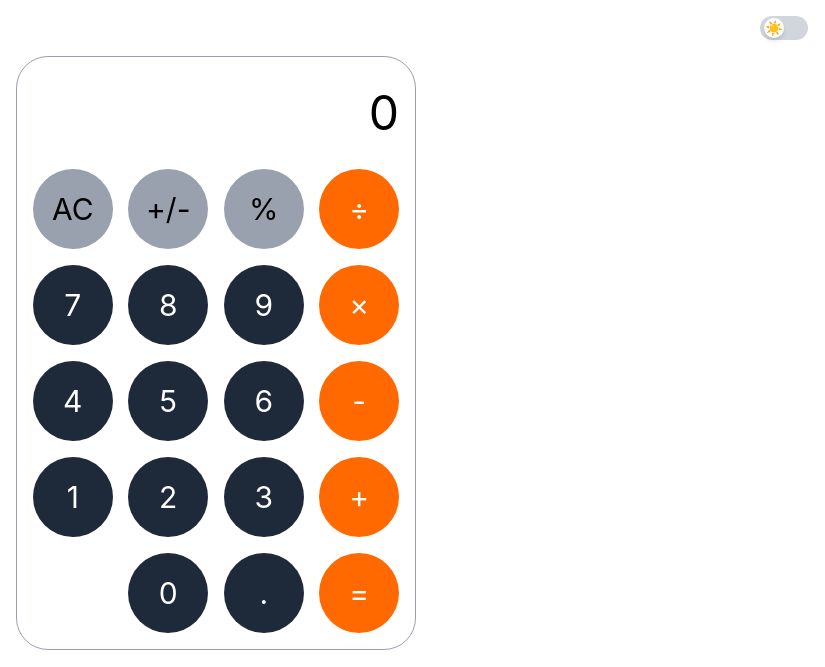
Test: Calculator 功能測試 › 輸入數字與減法
Click the button with test id "btn-1" at coordinates (73, 497), box [33, 457, 113, 537]
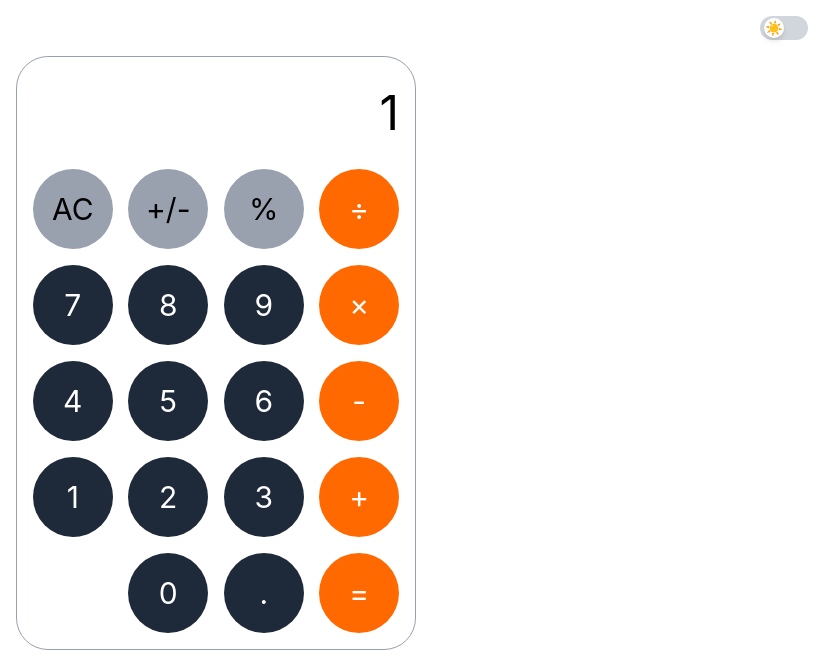
Click the button with test id "btn--" at coordinates (359, 401), box [319, 361, 399, 441]
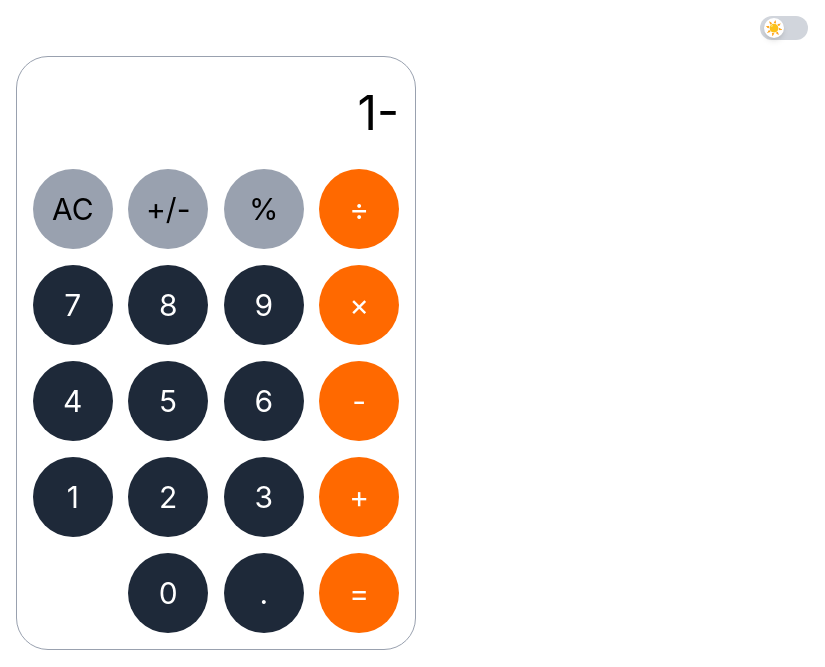
Click the button with test id "btn-2" at coordinates (168, 497), box [128, 457, 208, 537]
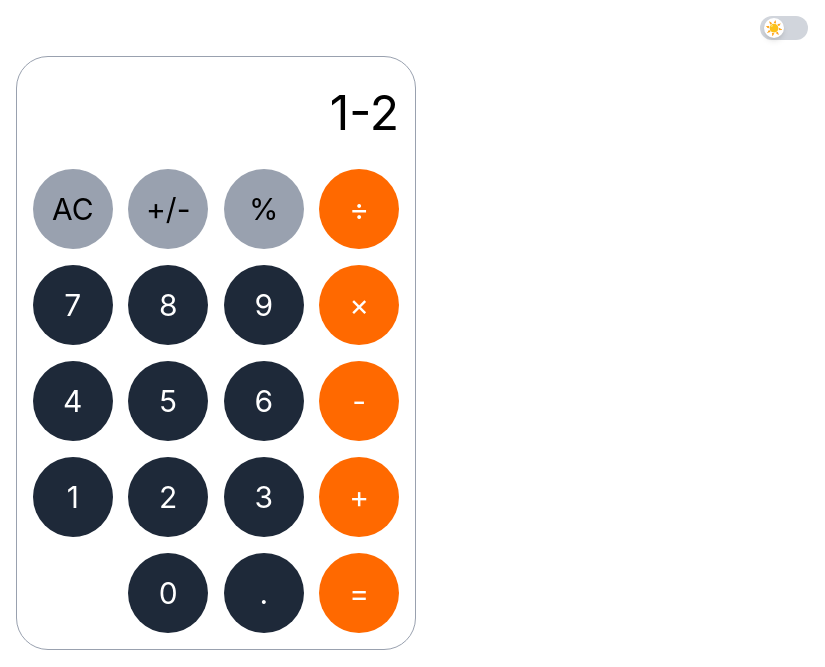
Click the button with test id "btn-=" at coordinates (359, 593), box [319, 553, 399, 633]
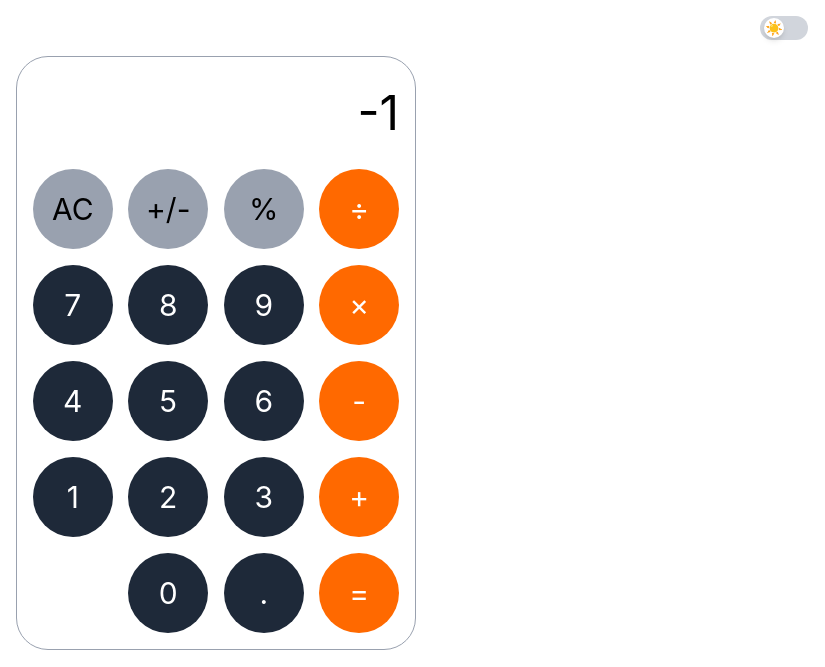
Now the text with test id "result" reads "-1", box [357, 83, 399, 142]
